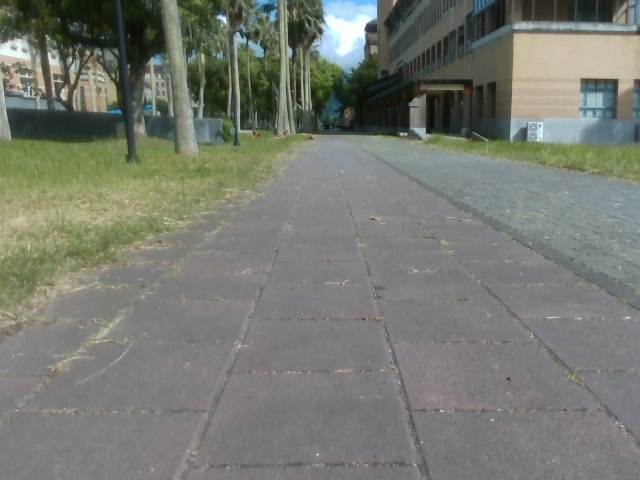grass: (0, 127, 311, 326), (0, 0, 376, 155), (342, 131, 639, 181)
road: (0, 135, 639, 479)
sidewalk: (384, 149, 639, 295)
